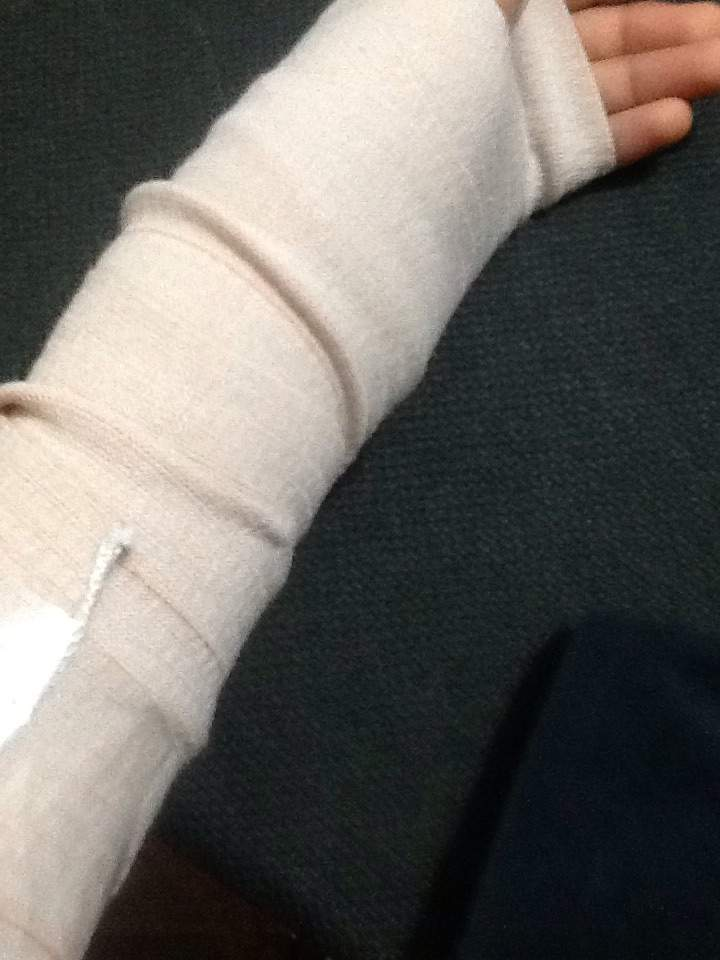injured: (70, 16, 470, 630)
